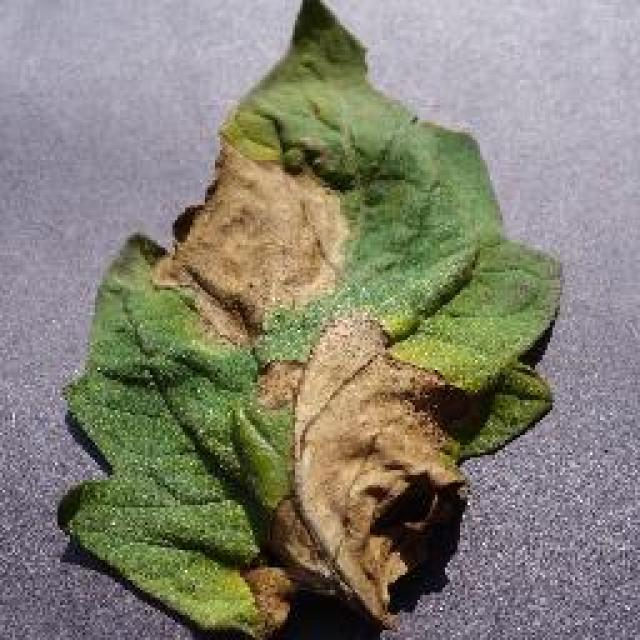Tomato Late Blight: (162, 53, 443, 615)
